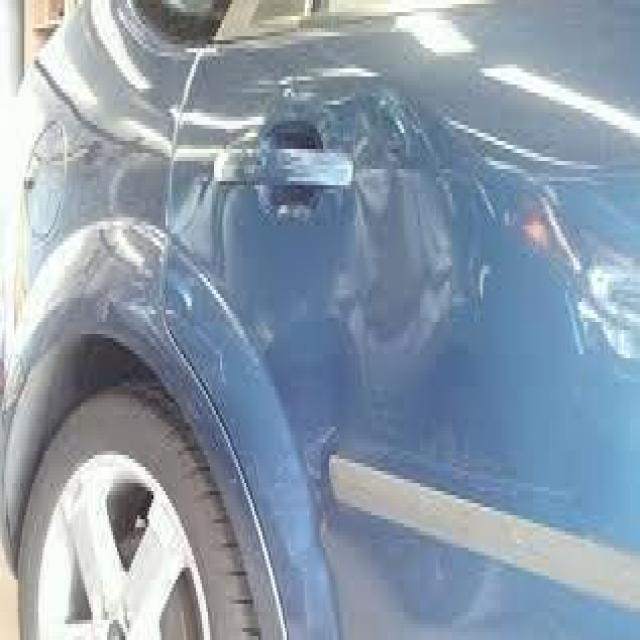damaged: (335, 96, 456, 378), (276, 430, 338, 580)
